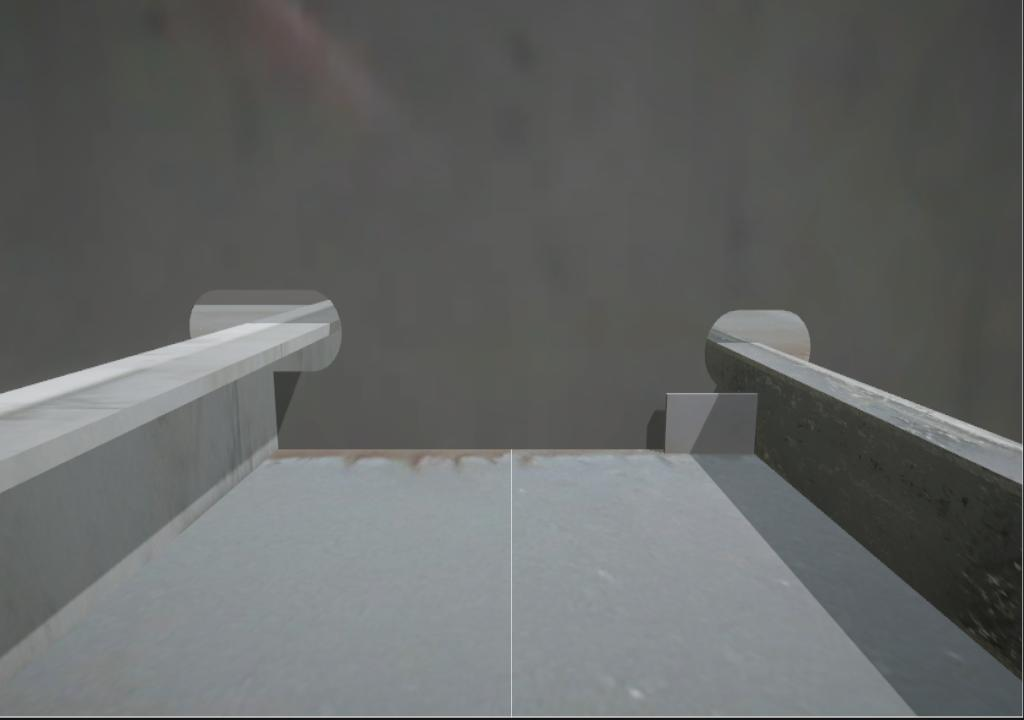fillet_yong_jeop_jang: (273, 440, 664, 459)
longi_yong_jeop_jang: (268, 366, 288, 461)
plate_CP01: (663, 390, 758, 453)
